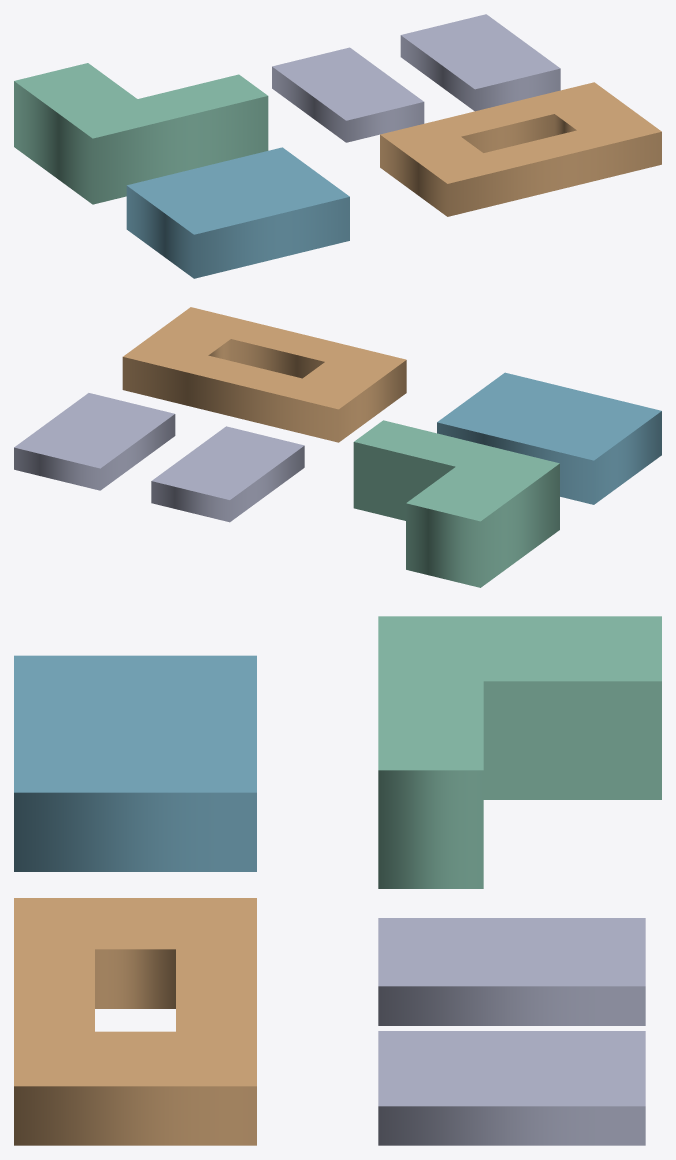
Rendered from city-block.glb.
3 renders of one model, top to bottom at view 1: azimuth 30°, elevation 25°; view 2: azimuth 150°, elevation 25°; view 3: azimuth 270°, elevation 25°, orthographic. The views are drawn at different scales.
Visible parts, largest first — view 1: building_corner, building_courtyard, building_workshop, building_pavilions; view 2: building_courtyard, building_corner, building_pavilions, building_workshop; view 3: building_corner, building_pavilions, building_courtyard, building_workshop.
Part boxes in pixels (<box>): building_corner: <box>14,63,268,204</box>; building_courtyard: <box>380,82,661,216</box>; building_workshop: <box>126,147,349,278</box>; building_pavilions: <box>272,14,560,142</box>; building_courtyard: <box>122,307,406,442</box>; building_corner: <box>353,420,559,587</box>; building_pavilions: <box>14,393,304,522</box>; building_workshop: <box>437,372,661,504</box>; building_corner: <box>378,616,661,888</box>; building_pavilions: <box>378,918,645,1145</box>; building_courtyard: <box>14,898,256,1145</box>; building_workshop: <box>14,655,256,871</box>.
Size of the model in its own units: 133 by 18 by 88.96.
